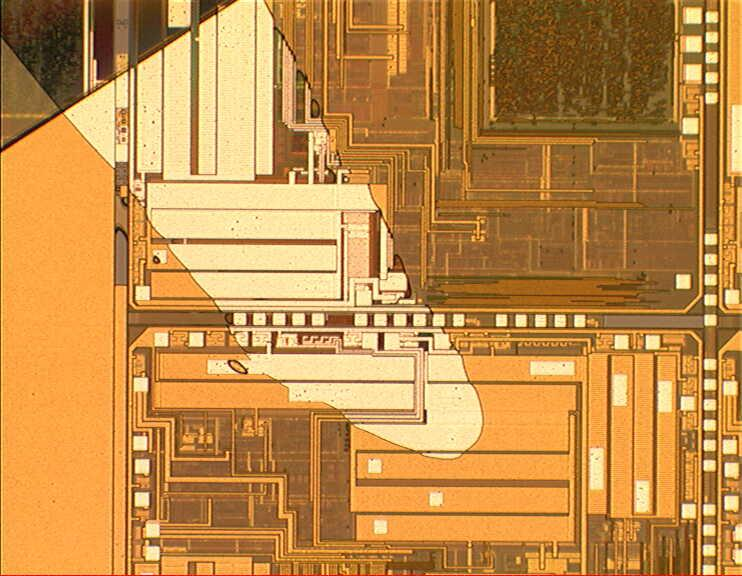COATING BAD: (1, 1, 488, 462)
